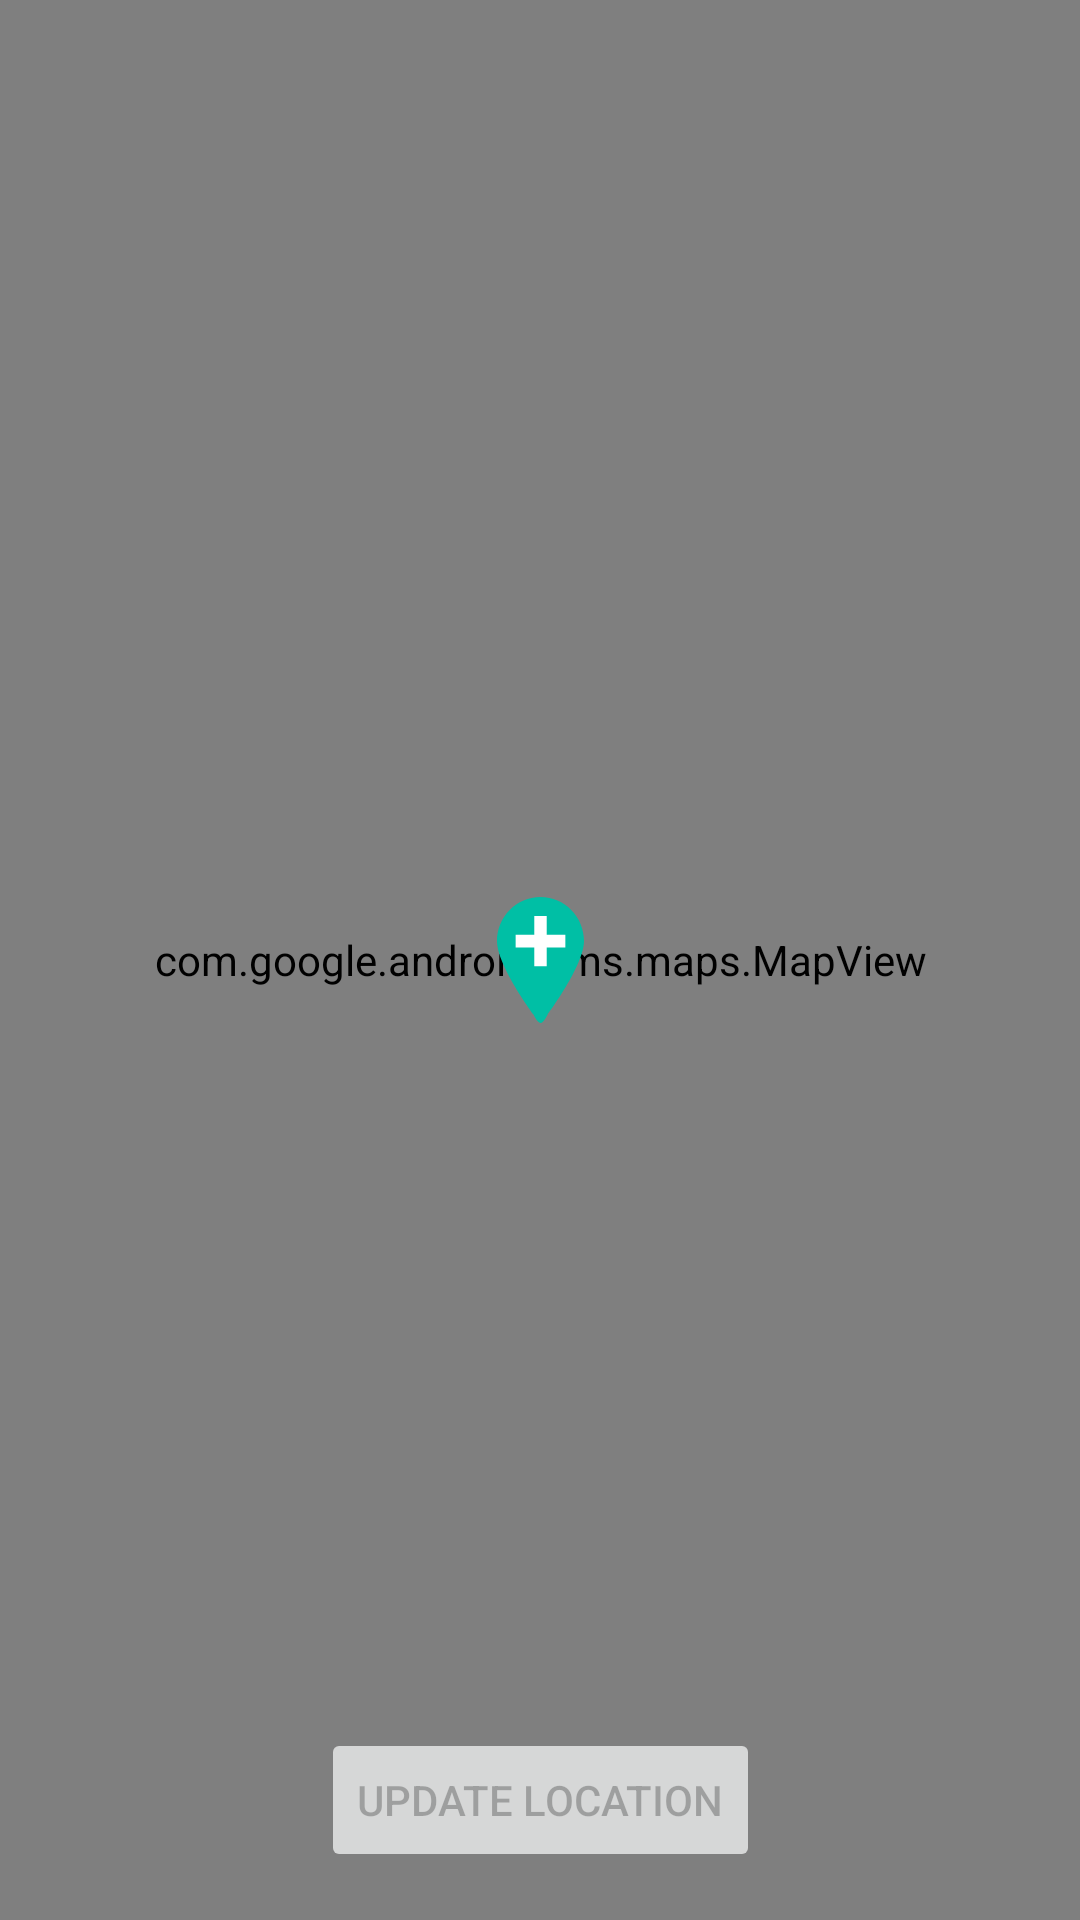

Icon bounding boxes for this 1080x1920 phone screenshot, format (x1,y1,x2,y2):
pin: (497,897,584,1023)
